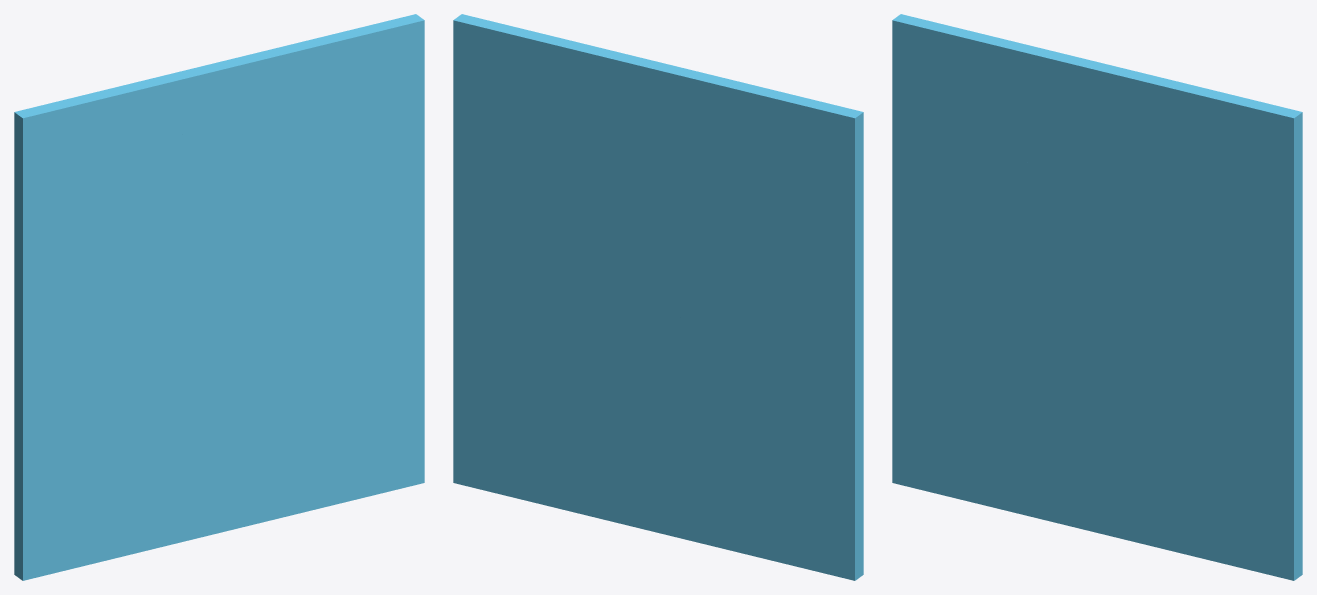
File: WindowGlass_rootss30.fbx
The picture shows the model from 3 angles, left to right: view 1: azimuth 30°, elevation 25°; view 2: azimuth 150°, elevation 25°; view 3: azimuth 330°, elevation 25°; orthographic projection.
Parts seen in each view (by area): view 1: WindowGlass_sh_6, WindowGlass_sh_18, WindowGlass_sh_27, WindowGlass_sh_23, WindowGlass_sh_12, WindowGlass_sh_8, WindowGlass_sh_24, WindowGlass_sh_17, WindowGlass_sh_7, WindowGlass_sh_19, WindowGlass_sh_15, WindowGlass_sh_21 (+18 smaller); view 2: WindowGlass_sh_6, WindowGlass_sh_18, WindowGlass_sh_27, WindowGlass_sh_23, WindowGlass_sh_12, WindowGlass_sh_8, WindowGlass_sh_24, WindowGlass_sh_7, WindowGlass_sh_19, WindowGlass_sh_15, WindowGlass_sh_17, WindowGlass_sh_21 (+18 smaller); view 3: WindowGlass_sh_6, WindowGlass_sh_18, WindowGlass_sh_27, WindowGlass_sh_23, WindowGlass_sh_12, WindowGlass_sh_8, WindowGlass_sh_19, WindowGlass_sh_24, WindowGlass_sh_7, WindowGlass_sh_21, WindowGlass_sh_17, WindowGlass_sh_16 (+18 smaller).
Part boxes in pixels (x1,y1,x2,y2): WindowGlass_sh_6: [14, 295, 234, 447]; WindowGlass_sh_18: [14, 414, 173, 565]; WindowGlass_sh_27: [14, 226, 185, 383]; WindowGlass_sh_23: [135, 359, 276, 534]; WindowGlass_sh_12: [176, 202, 294, 352]; WindowGlass_sh_8: [233, 120, 343, 253]; WindowGlass_sh_24: [234, 334, 356, 433]; WindowGlass_sh_17: [14, 95, 113, 210]; WindowGlass_sh_7: [173, 90, 279, 208]; WindowGlass_sh_19: [353, 278, 424, 449]; WindowGlass_sh_15: [14, 142, 72, 315]; WindowGlass_sh_21: [328, 188, 424, 278]; WindowGlass_sh_6: [644, 295, 863, 447]; WindowGlass_sh_18: [705, 414, 863, 564]; WindowGlass_sh_27: [694, 228, 863, 383]; WindowGlass_sh_23: [601, 360, 743, 533]; WindowGlass_sh_12: [582, 202, 702, 353]; WindowGlass_sh_8: [534, 121, 644, 254]; WindowGlass_sh_24: [521, 332, 645, 434]; WindowGlass_sh_7: [597, 89, 705, 207]; WindowGlass_sh_19: [453, 278, 524, 449]; WindowGlass_sh_15: [803, 147, 863, 317]; WindowGlass_sh_17: [766, 94, 863, 207]; WindowGlass_sh_21: [453, 187, 549, 278]; WindowGlass_sh_6: [892, 272, 1104, 404]; WindowGlass_sh_18: [892, 323, 1042, 518]; WindowGlass_sh_27: [892, 172, 1054, 285]; WindowGlass_sh_23: [1004, 364, 1146, 509]; WindowGlass_sh_12: [1046, 207, 1163, 358]; WindowGlass_sh_8: [1103, 155, 1213, 292]; WindowGlass_sh_19: [1222, 369, 1302, 547]; WindowGlass_sh_24: [1103, 356, 1225, 460]; WindowGlass_sh_7: [1042, 82, 1148, 207]; WindowGlass_sh_21: [1198, 262, 1302, 375]; WindowGlass_sh_17: [892, 14, 982, 137]; WindowGlass_sh_16: [1210, 189, 1302, 285].
Size of the model in its own units: 100 by 110 by 3.71.
